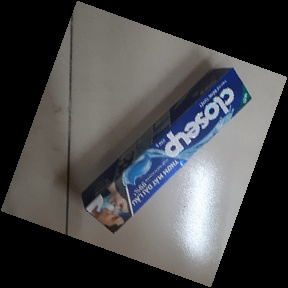CloseUp Tuyet: (79, 67, 254, 235)
